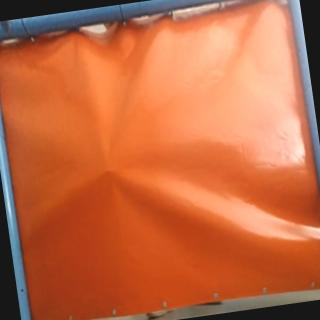Hit-hRxx: (100, 164, 116, 178)
